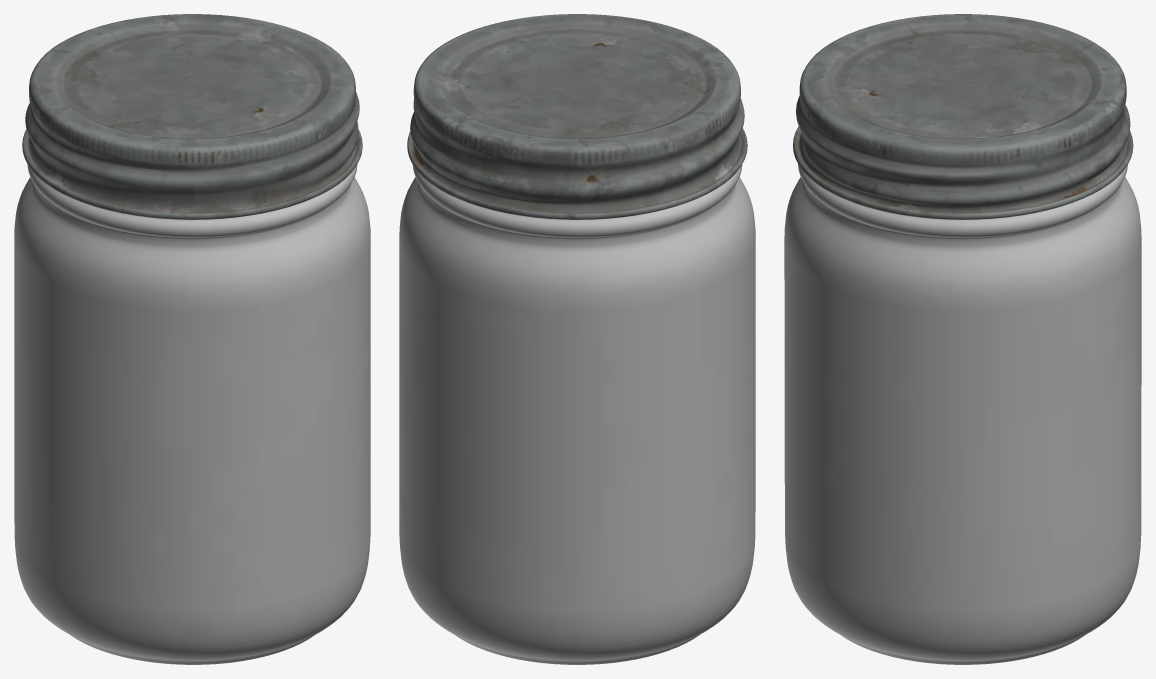
File: container_jar_glass_silver_a01.glb
The picture shows the model from 3 angles, left to right: view 1: azimuth 30°, elevation 25°; view 2: azimuth 150°, elevation 25°; view 3: azimuth 270°, elevation 25°; orthographic projection.
Visible parts, largest first — view 1: jar_01_mesh_00, lid_01_mesh_00; view 2: jar_01_mesh_00, lid_01_mesh_00; view 3: jar_01_mesh_00, lid_01_mesh_00.
Boxes of the visible parts, left/top/right/bottom form: jar_01_mesh_00: left=14, top=164, right=370, bottom=664; lid_01_mesh_00: left=22, top=14, right=362, bottom=219; jar_01_mesh_00: left=399, top=164, right=755, bottom=664; lid_01_mesh_00: left=407, top=14, right=747, bottom=219; jar_01_mesh_00: left=784, top=164, right=1141, bottom=664; lid_01_mesh_00: left=793, top=14, right=1133, bottom=219.
Size of the model in its own units: 0.1148 by 0.1868 by 0.115.
2 materials, 2 textured.
